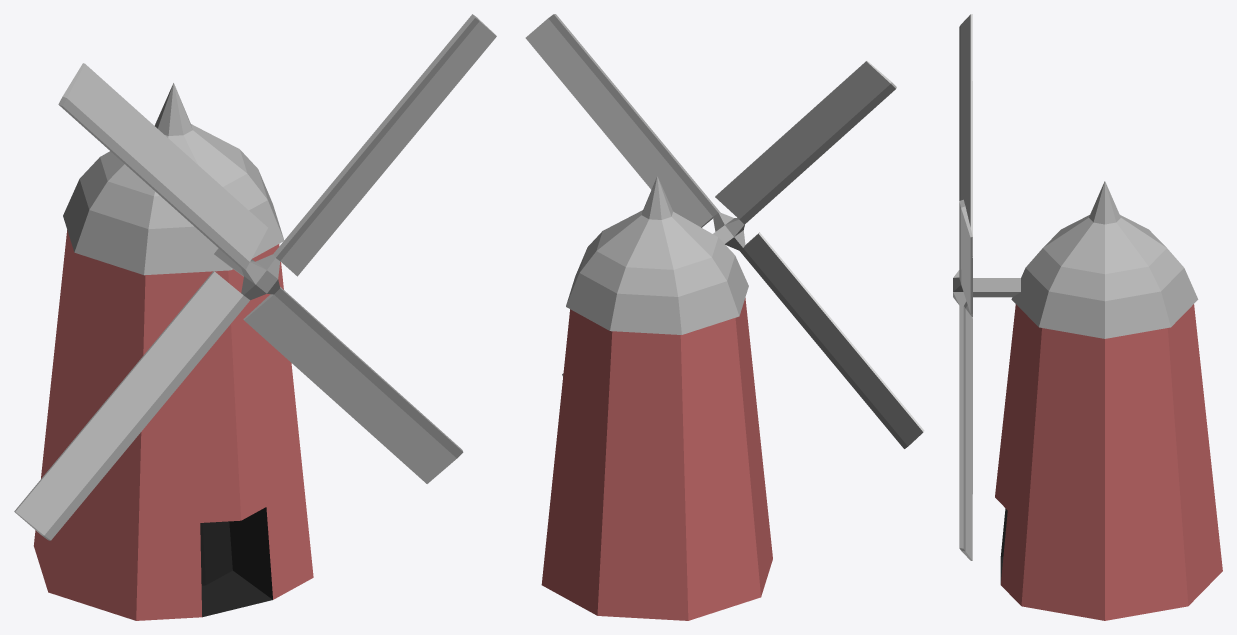
Rendered from Windmill2CounterClockwise.fbx.
3 renders of one model, left to right at view 1: azimuth 30°, elevation 25°; view 2: azimuth 150°, elevation 25°; view 3: azimuth 270°, elevation 25°, orthographic. The views are drawn at different scales.
Parts seen in each view (by area): view 1: Cylinder, Cylinder.001; view 2: Cylinder, Cylinder.001; view 3: Cylinder, Cylinder.001.
Part boxes in pixels (bbox=[...]): Cylinder: bbox=[33, 83, 313, 620]; Cylinder.001: bbox=[14, 14, 496, 540]; Cylinder: bbox=[541, 176, 772, 620]; Cylinder.001: bbox=[525, 14, 924, 448]; Cylinder: bbox=[995, 181, 1222, 620]; Cylinder.001: bbox=[953, 14, 1020, 560].
Size of the model in its own units: 13.82 by 16.45 by 8.23.
